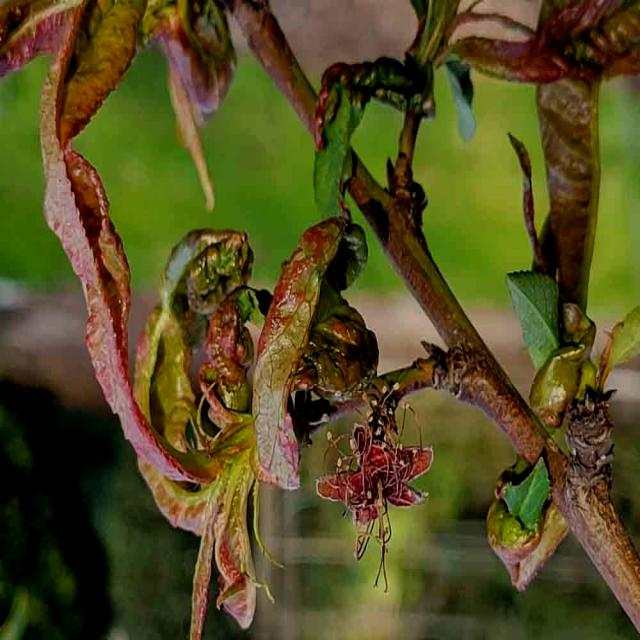peach_leaf_curl: (71, 0, 451, 592)
